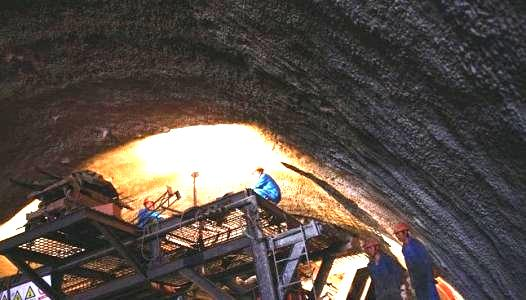helmet: (362, 237, 380, 257), (393, 222, 409, 241), (251, 165, 263, 178), (144, 196, 155, 210)
